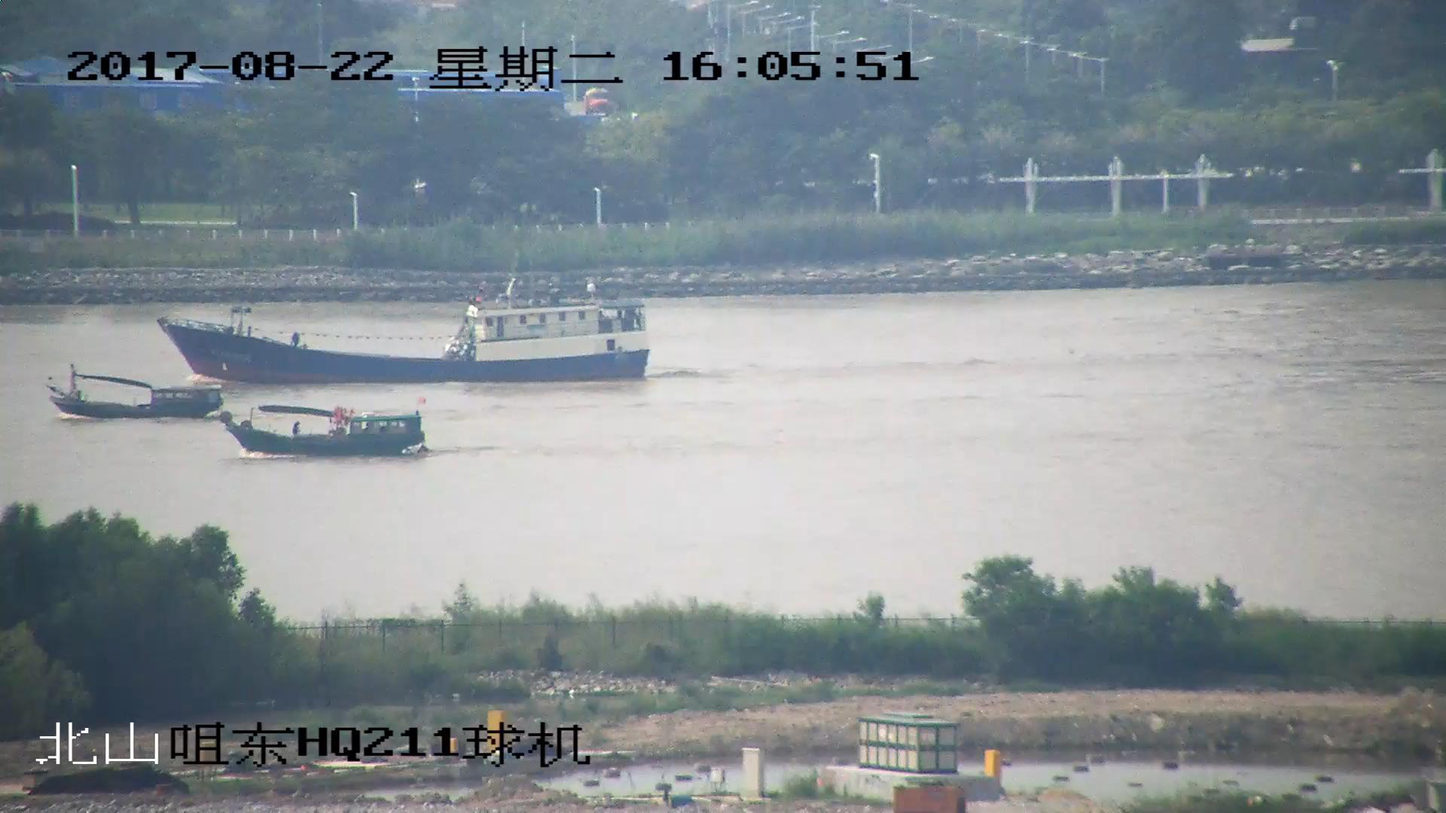fishing boat: (157, 287, 649, 386), (218, 402, 427, 457), (45, 364, 221, 419)
